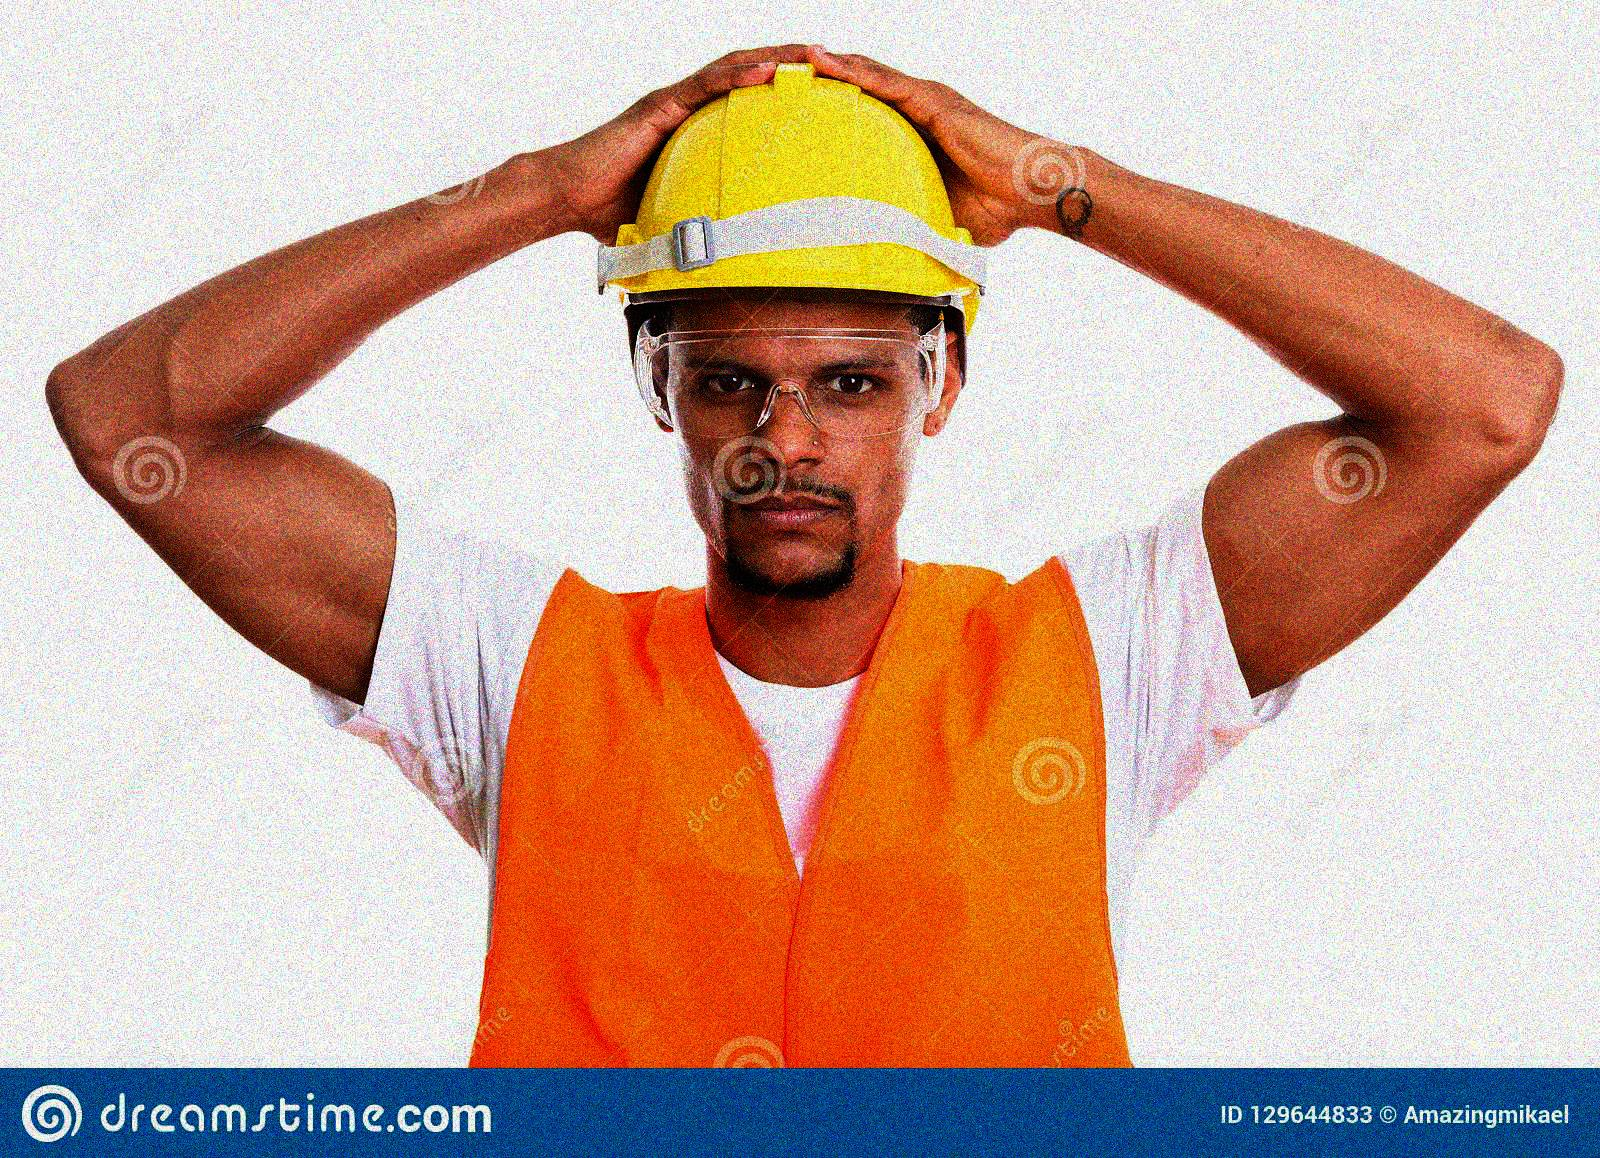helmet: (593, 65, 985, 589)
